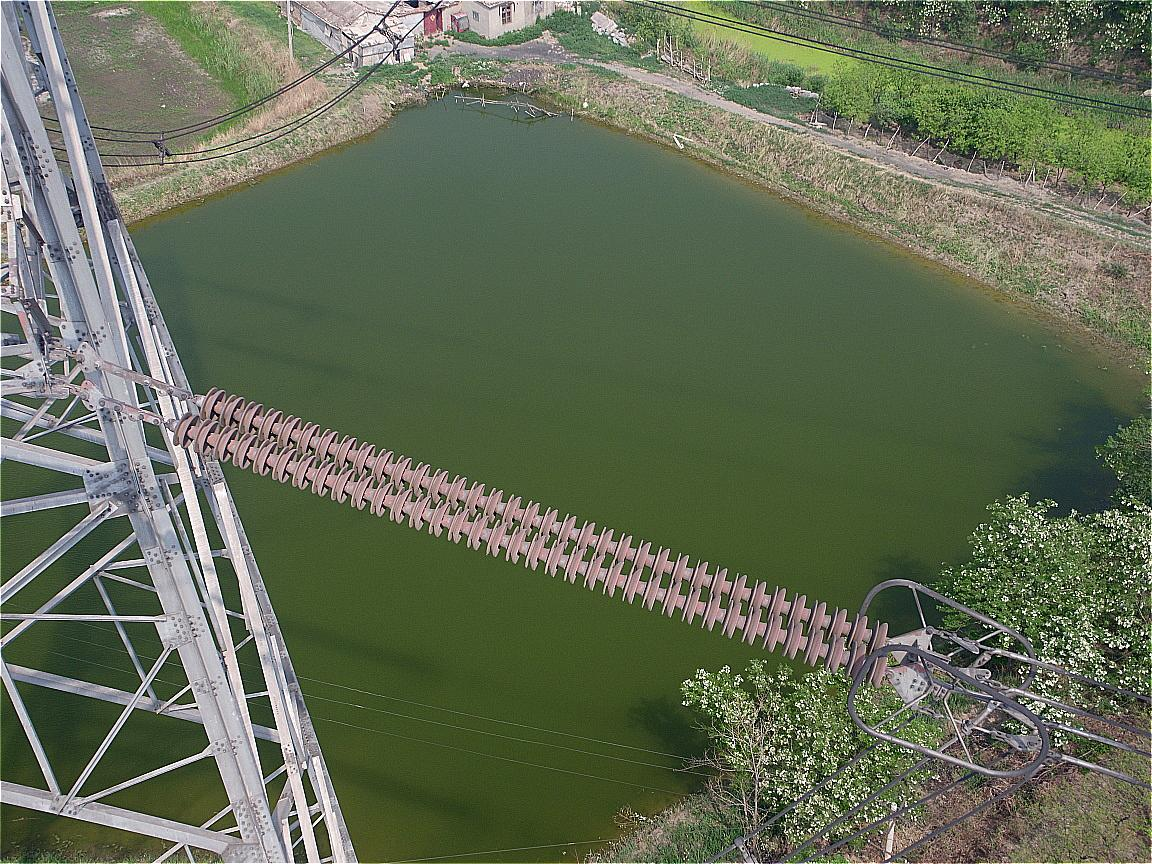insultor2: (172, 383, 892, 687)
